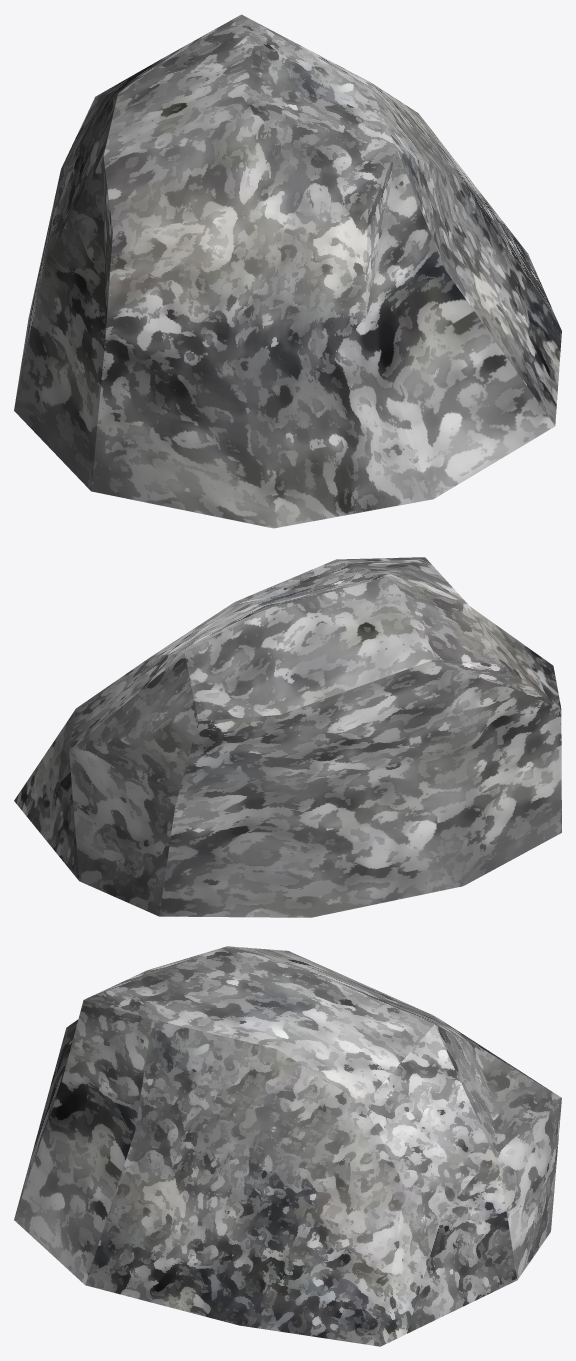
Rendered from Obj01_Stone.fbx.
The picture shows the model from 3 angles, top to bottom: view 1: azimuth 30°, elevation 25°; view 2: azimuth 150°, elevation 25°; view 3: azimuth 270°, elevation 25°; orthographic projection. The views are drawn at different scales.
Visible parts, largest first — view 1: Obj01_Stone; view 2: Obj01_Stone; view 3: Obj01_Stone.
Part boxes in pixels (bbox=[...]): Obj01_Stone: bbox=[14, 14, 561, 528]; Obj01_Stone: bbox=[14, 557, 561, 917]; Obj01_Stone: bbox=[14, 946, 561, 1346].
Size of the model in its own units: 1.12 by 0.5814 by 1.16.
